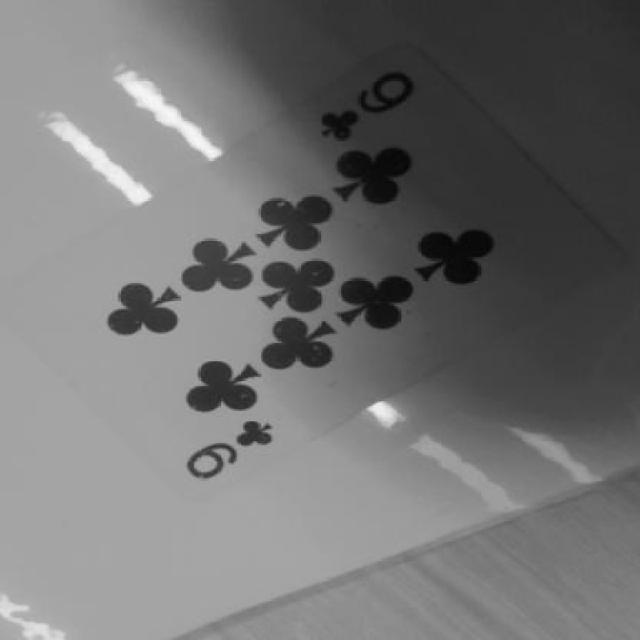9C: (169, 402, 303, 484), (306, 72, 431, 148)
